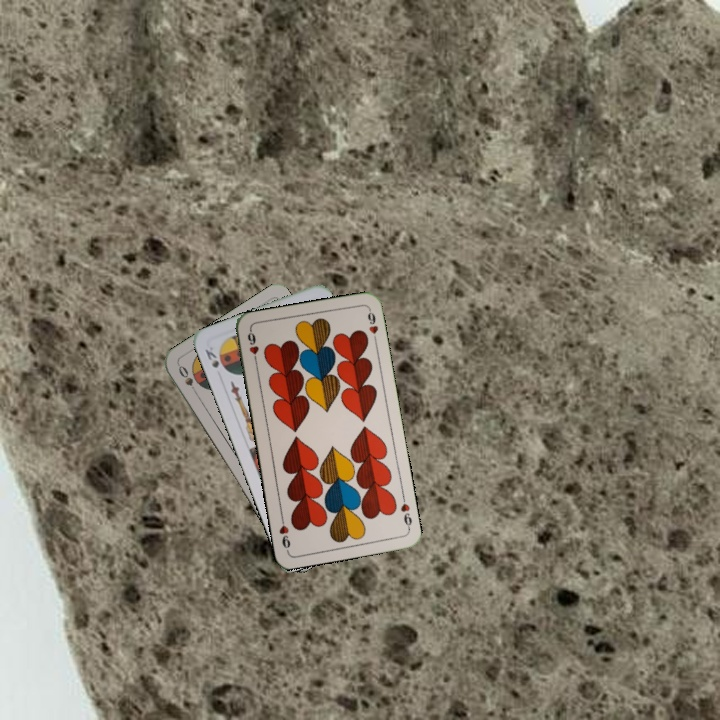H9: (396, 492, 415, 532), (243, 327, 261, 367)
SK: (201, 342, 222, 371)
SO: (174, 361, 200, 398)
